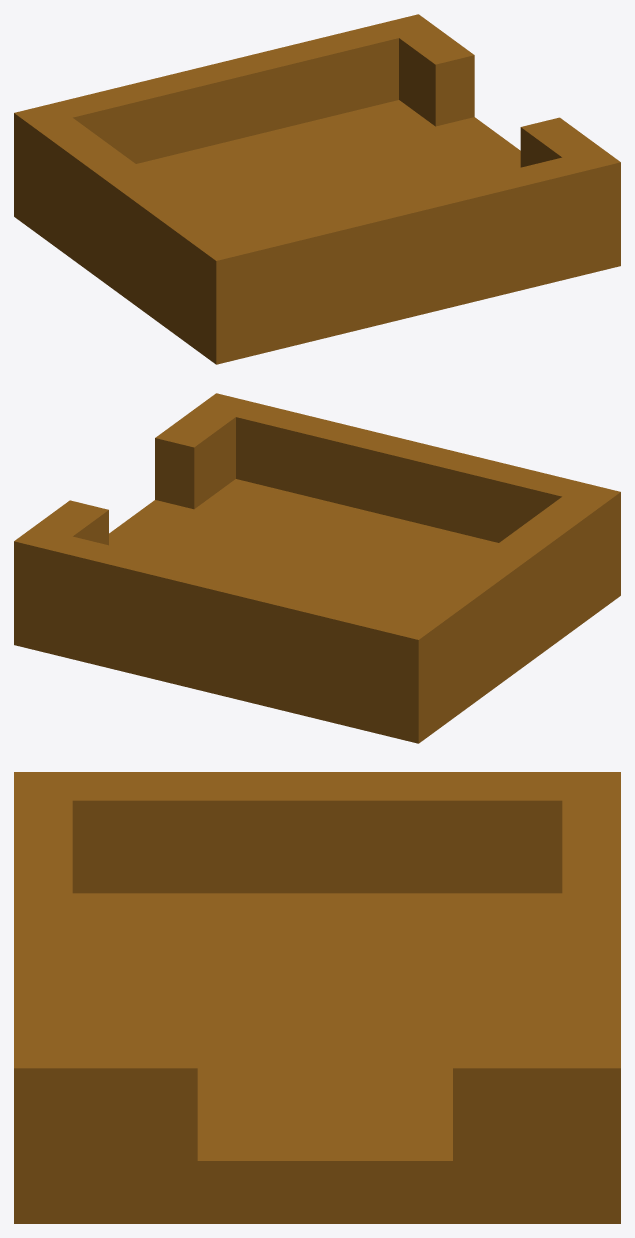
File: healpoint.fbx
The picture shows the model from 3 angles, top to bottom: view 1: azimuth 30°, elevation 25°; view 2: azimuth 150°, elevation 25°; view 3: azimuth 270°, elevation 25°; orthographic projection. The views are drawn at different scales.
Parts seen in each view (by area): view 1: Cube; view 2: Cube; view 3: Cube.
Part boxes in pixels (<box>): Cube: <box>14,14,620,364</box>; Cube: <box>14,393,620,743</box>; Cube: <box>14,772,620,1223</box>.
Bounding box in the file's own units: 105 × 25.83 × 91.27.
